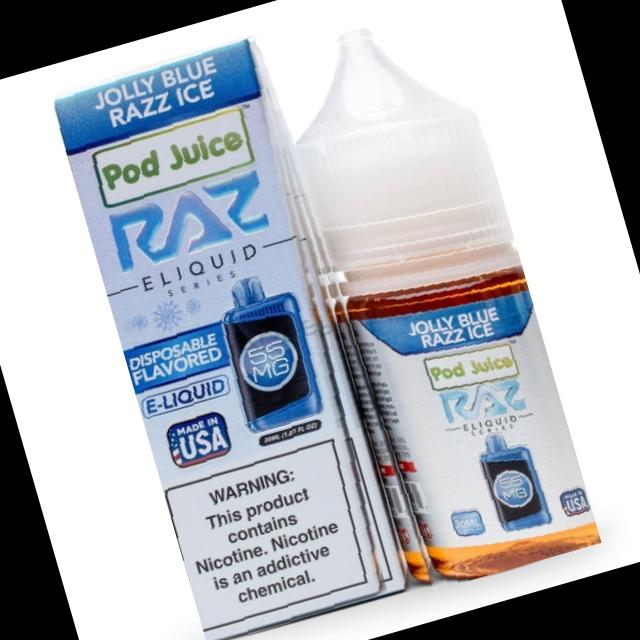Hazard: (49, 36, 412, 640), (254, 1, 601, 597)
